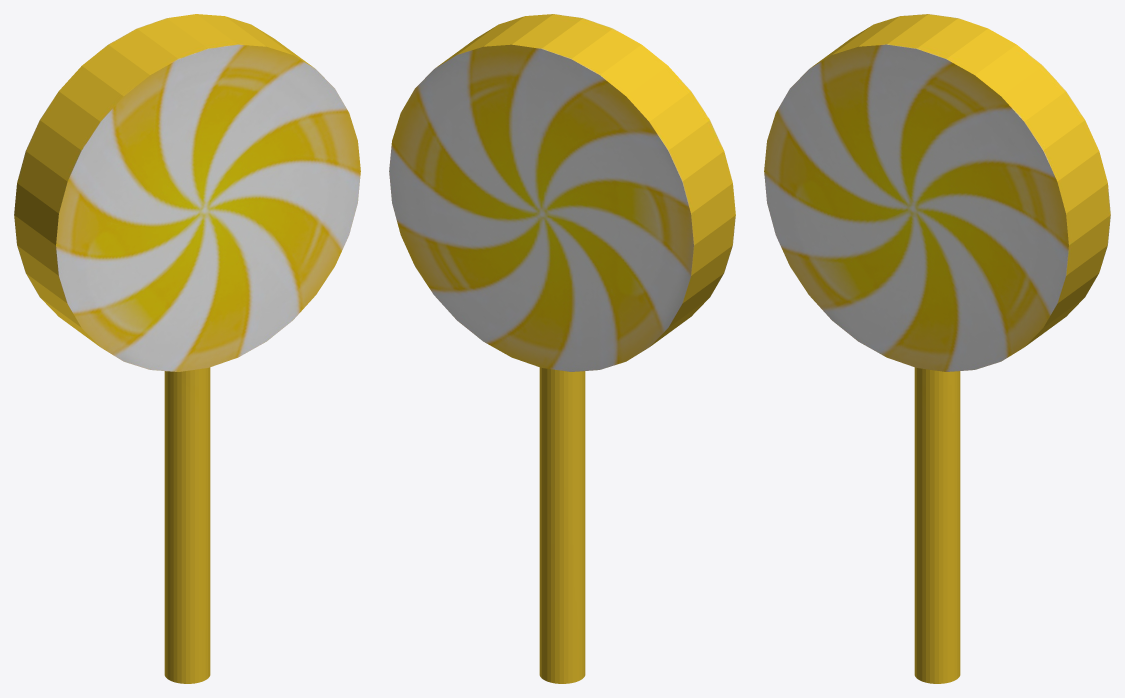
File: lollipop02.obj
3 views of the same model, side by side, from view 1: azimuth 30°, elevation 25°; view 2: azimuth 150°, elevation 25°; view 3: azimuth 330°, elevation 25° (orthographic).
Parts seen in each view (by area): view 1: obj2; view 2: obj2; view 3: obj2.
Part boxes in pixels (x1,y1,x2,y2): obj2: (14,14,360,683); obj2: (389,14,735,683); obj2: (764,14,1110,683).
Size of the model in its own units: 3.63 by 7.28 by 0.8636.
Materials: 1 (1 with a texture image).
